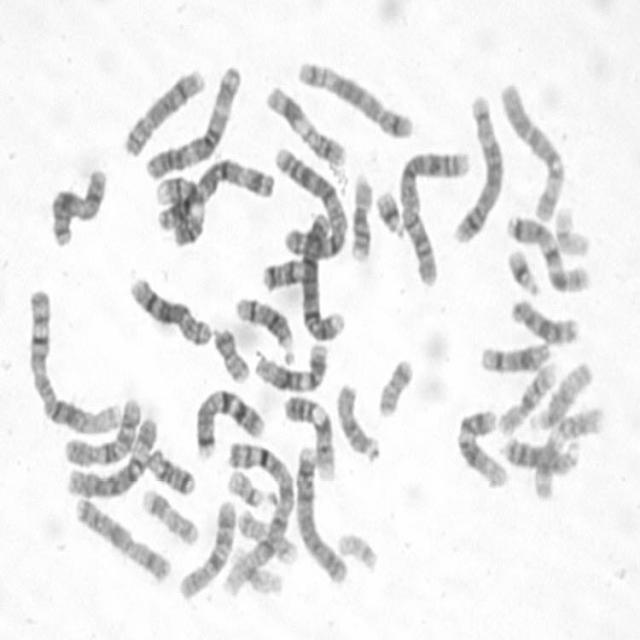A1: (22, 281, 123, 436), (217, 433, 297, 600)
A2: (394, 140, 473, 289), (269, 138, 351, 264)
A3: (139, 56, 245, 179), (150, 149, 277, 233)
B4: (290, 439, 350, 585), (294, 206, 348, 342)
B5: (292, 51, 414, 140), (448, 86, 506, 245)
C10: (174, 491, 239, 602), (59, 388, 144, 469)
C11: (528, 398, 606, 502), (260, 77, 348, 167)
C12: (452, 401, 511, 489), (249, 336, 330, 392)
C6: (494, 72, 567, 222), (61, 407, 162, 500)
C7: (501, 207, 591, 293), (190, 379, 267, 460)
C8: (118, 58, 207, 159), (124, 269, 213, 348)
C9: (278, 386, 338, 482), (150, 168, 208, 247)
D13: (505, 290, 581, 347), (498, 428, 580, 476)
D14: (230, 288, 297, 358), (474, 332, 554, 375)
D15: (524, 352, 594, 432), (331, 375, 383, 463)
E16: (493, 354, 559, 436), (345, 166, 375, 263)
E17: (232, 500, 300, 566), (137, 480, 200, 547)
E18: (142, 441, 197, 497), (257, 251, 307, 292)
F19: (225, 540, 284, 598), (549, 197, 592, 258)
F20: (372, 349, 416, 419), (207, 318, 251, 384)
G21: (502, 240, 542, 296), (370, 182, 407, 240)
G22: (332, 524, 380, 573), (222, 462, 268, 509)
X: (68, 489, 173, 584), (44, 159, 109, 249)
